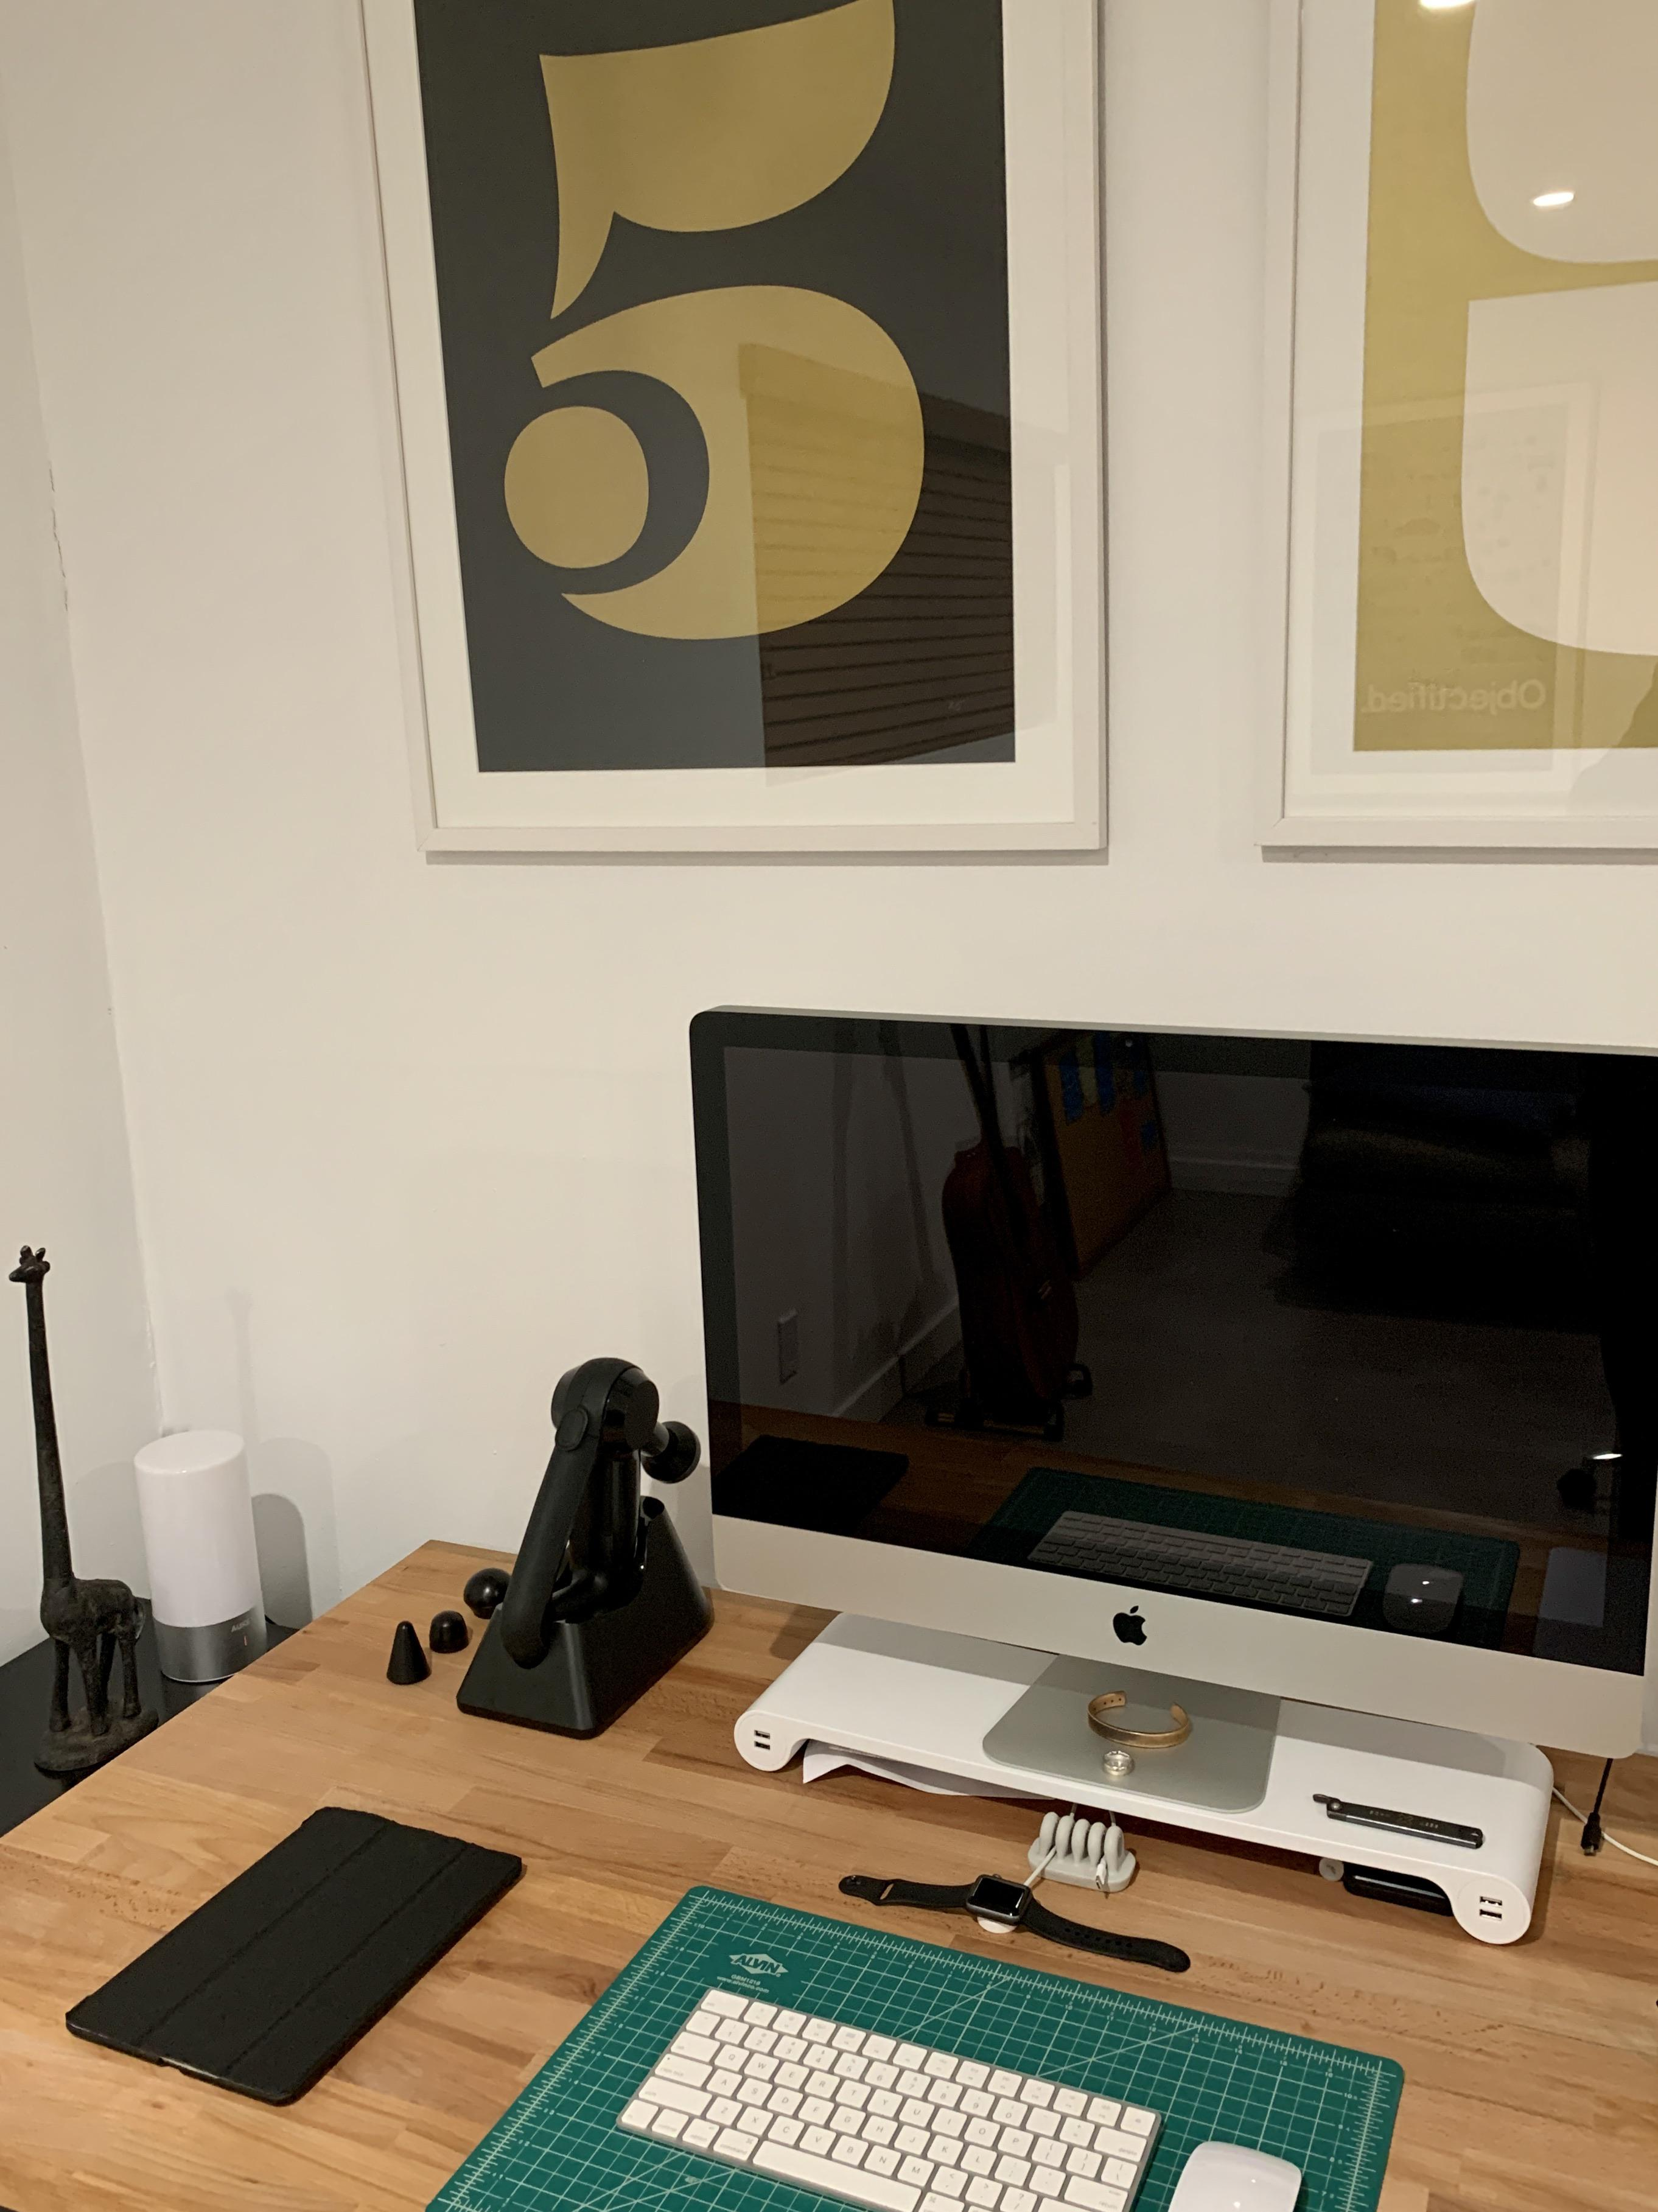Decoration (Miniature): (0, 1245, 162, 1787)
Decoration (Picture): (343, 0, 1109, 871), (1247, 2, 1658, 857)
Decoration (Watch): (838, 1871, 1190, 1975)
Desk (Generic): (0, 1533, 1658, 2212)
Fan (Desk): (131, 1432, 272, 1686)
Keyboard (Generic): (611, 1984, 1170, 2212)
Monitor (iMac): (686, 1001, 1658, 1813)
Mouse (Generic): (1165, 2137, 1303, 2212)
Tablet (iPad): (63, 1808, 545, 2102)
USB Hub: (733, 1608, 1555, 1947)
